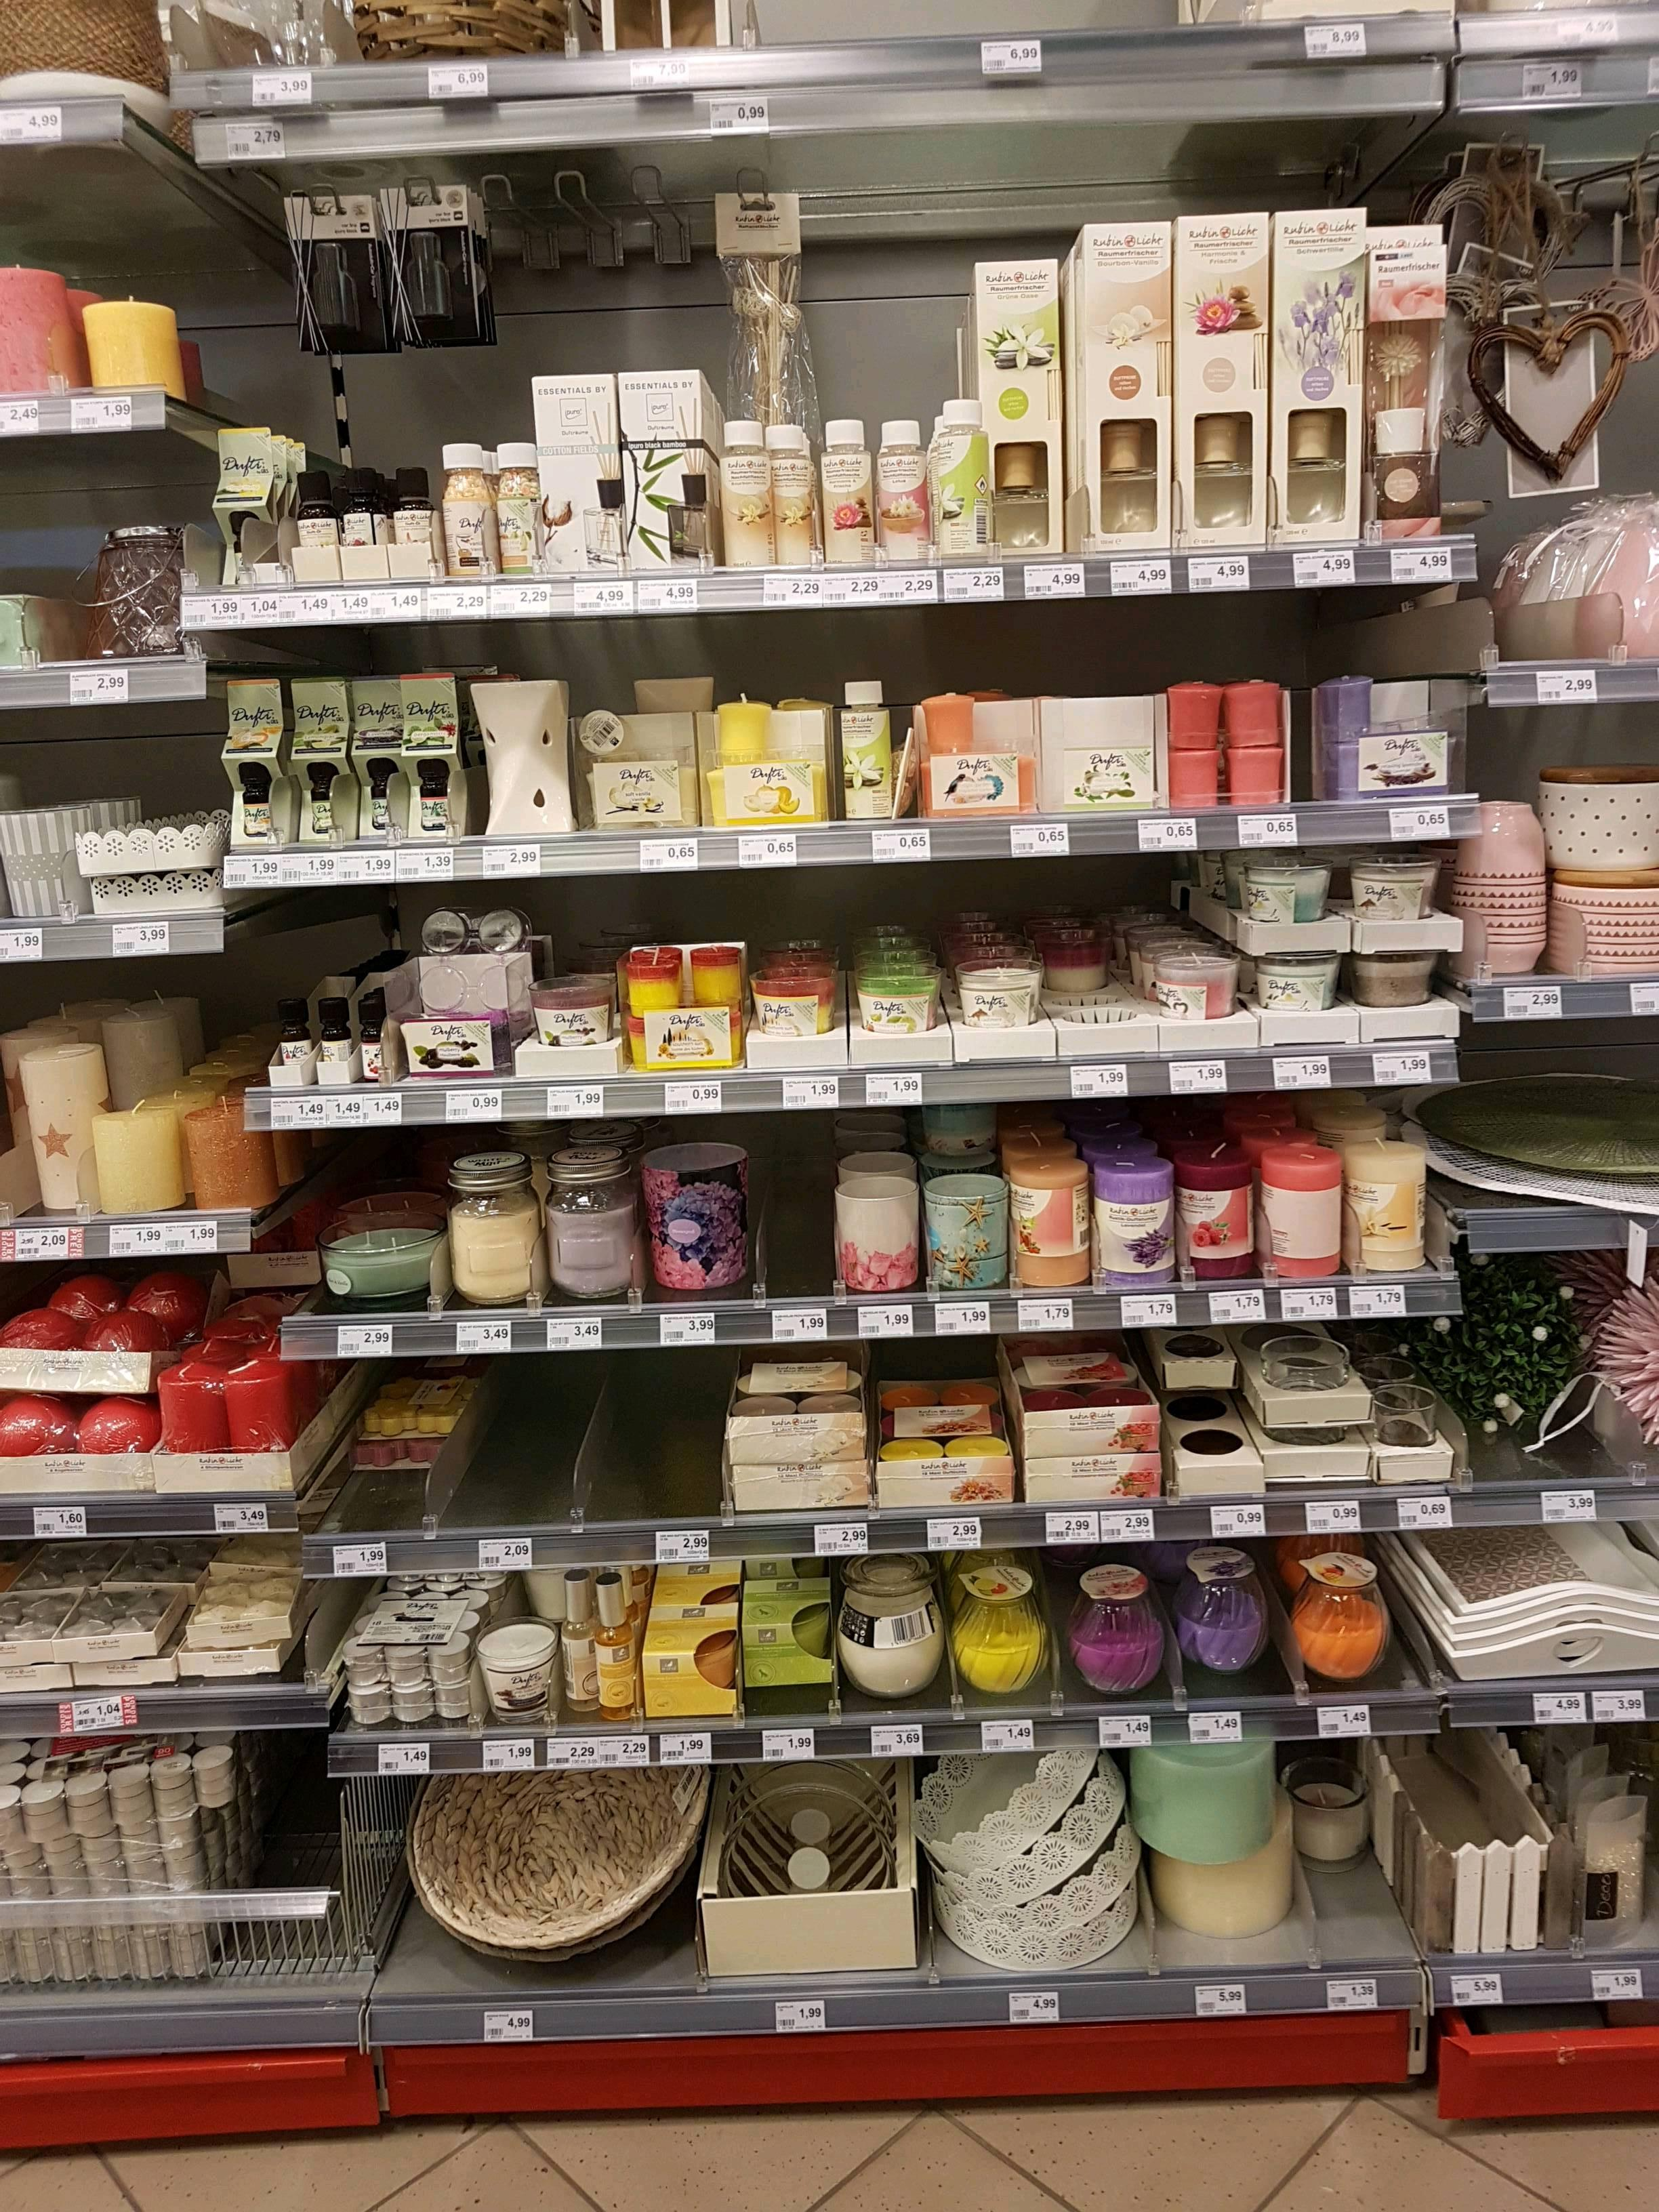empty: (467, 1369, 570, 1524), (606, 1367, 709, 1522), (763, 1132, 843, 1292), (244, 1731, 324, 1892), (1324, 1818, 1401, 1961)
